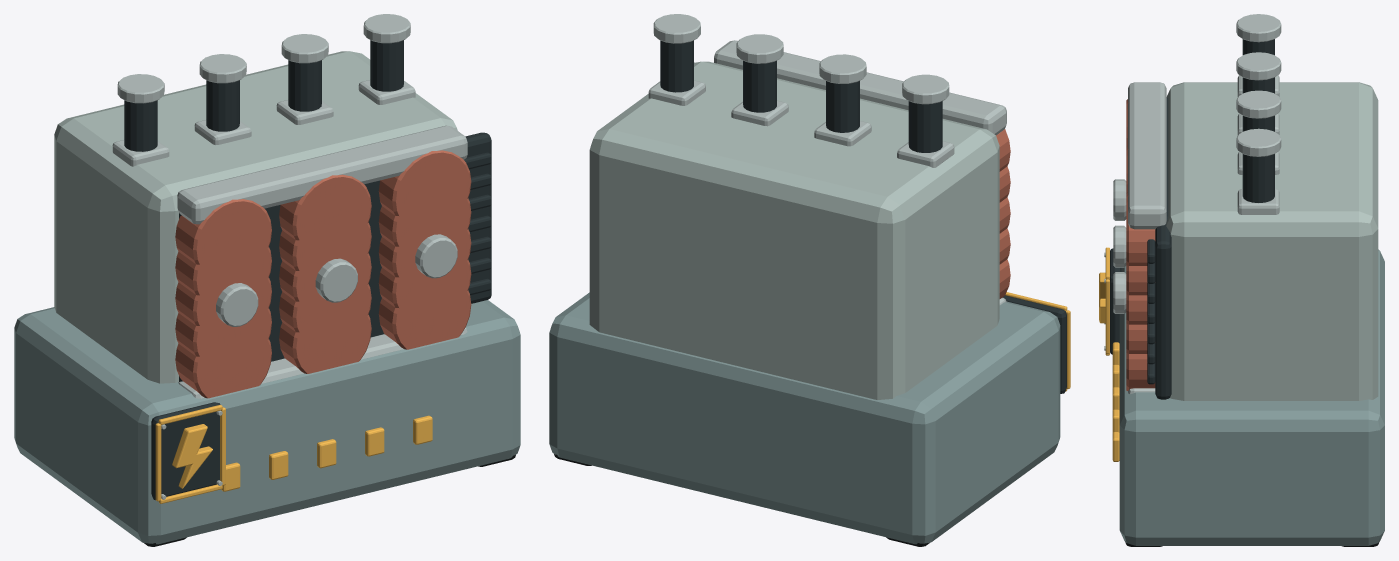
File: Bloc transformateur redresseur.glb
3 renders of one model, left to right at view 1: azimuth 30°, elevation 25°; view 2: azimuth 150°, elevation 25°; view 3: azimuth 270°, elevation 25°, orthographic. The views are drawn at different scales.
Visible parts, largest first — view 1: TRANSFORMER_Base, TRANSFORMER_Core_Housing, TRANSFORMER_Coil_Upper_Support, TRANSFORMER_Coil_1_1, TRANSFORMER_Coil_2_1, TRANSFORMER_Coil_3_1, TRANSFORMER_Coil_3_5, TRANSFORMER_Coil_1_5, TRANSFORMER_Coil_3_4, TRANSFORMER_Electrical_Recess, TRANSFORMER_Coil_1_4, TRANSFORMER_Coil_2_4 (+26 smaller); view 2: TRANSFORMER_Core_Housing, TRANSFORMER_Base, TRANSFORMER_Coil_Upper_Support, TRANSFORMER_Insulator_1, TRANSFORMER_Insulator_3, TRANSFORMER_Insulator_4, TRANSFORMER_Insulator_2, TRANSFORMER_Insulator_Cap_1, TRANSFORMER_Insulator_Cap_2, TRANSFORMER_Insulator_Cap_3, TRANSFORMER_Insulator_Cap_4, TRANSFORMER_Electrical_Recess (+4 smaller); view 3: TRANSFORMER_Core_Housing, TRANSFORMER_Base, TRANSFORMER_Coil_Upper_Support, TRANSFORMER_Side_Vent_Back, TRANSFORMER_Insulator_4, TRANSFORMER_Insulator_Cap_2, TRANSFORMER_Insulator_Cap_3, TRANSFORMER_Insulator_Cap_4, TRANSFORMER_Insulator_Cap_1, TRANSFORMER_Coil_3_5, TRANSFORMER_Coil_3_1, TRANSFORMER_Insulator_Foot_4 (+13 smaller).
Boxes of the visible parts, x1=… form: TRANSFORMER_Base: x1=14, y1=300, x2=520, y2=544; TRANSFORMER_Core_Housing: x1=54, y1=51, x2=457, y2=383; TRANSFORMER_Coil_Upper_Support: x1=177, y1=125, x2=467, y2=224; TRANSFORMER_Coil_1_1: x1=175, y1=324, x2=271, y2=398; TRANSFORMER_Coil_2_1: x1=279, y1=300, x2=371, y2=373; TRANSFORMER_Coil_3_1: x1=378, y1=275, x2=471, y2=349; TRANSFORMER_Coil_3_5: x1=378, y1=150, x2=471, y2=231; TRANSFORMER_Coil_1_5: x1=175, y1=199, x2=271, y2=280; TRANSFORMER_Coil_3_4: x1=378, y1=183, x2=471, y2=261; TRANSFORMER_Electrical_Recess: x1=151, y1=402, x2=220, y2=500; TRANSFORMER_Coil_1_4: x1=175, y1=232, x2=271, y2=309; TRANSFORMER_Coil_2_4: x1=279, y1=207, x2=371, y2=285; TRANSFORMER_Core_Housing: x1=589, y1=61, x2=999, y2=399; TRANSFORMER_Base: x1=549, y1=292, x2=1060, y2=544; TRANSFORMER_Coil_Upper_Support: x1=714, y1=40, x2=1006, y2=135; TRANSFORMER_Insulator_1: x1=908, y1=101, x2=942, y2=152; TRANSFORMER_Insulator_3: x1=743, y1=60, x2=776, y2=112; TRANSFORMER_Insulator_4: x1=660, y1=40, x2=693, y2=92; TRANSFORMER_Insulator_2: x1=826, y1=81, x2=859, y2=132; TRANSFORMER_Insulator_Cap_1: x1=902, y1=74, x2=949, y2=104; TRANSFORMER_Insulator_Cap_2: x1=819, y1=54, x2=866, y2=83; TRANSFORMER_Insulator_Cap_3: x1=736, y1=34, x2=783, y2=63; TRANSFORMER_Insulator_Cap_4: x1=653, y1=14, x2=700, y2=43; TRANSFORMER_Electrical_Recess: x1=1003, y1=295, x2=1066, y2=393; TRANSFORMER_Core_Housing: x1=1166, y1=82, x2=1378, y2=400; TRANSFORMER_Base: x1=1119, y1=249, x2=1384, y2=545; TRANSFORMER_Coil_Upper_Support: x1=1128, y1=82, x2=1166, y2=229; TRANSFORMER_Side_Vent_Back: x1=1155, y1=224, x2=1171, y2=399; TRANSFORMER_Insulator_4: x1=1242, y1=154, x2=1274, y2=202; TRANSFORMER_Insulator_Cap_2: x1=1236, y1=52, x2=1281, y2=80; TRANSFORMER_Insulator_Cap_3: x1=1236, y1=90, x2=1281, y2=118; TRANSFORMER_Insulator_Cap_4: x1=1236, y1=128, x2=1281, y2=156; TRANSFORMER_Insulator_Cap_1: x1=1236, y1=14, x2=1281, y2=42; TRANSFORMER_Coil_3_5: x1=1126, y1=192, x2=1155, y2=265; TRANSFORMER_Coil_3_1: x1=1126, y1=353, x2=1155, y2=390; TRANSFORMER_Insulator_Foot_4: x1=1237, y1=189, x2=1279, y2=214.
Size of the model in its own units: 1.3 by 1.31 by 0.884.
